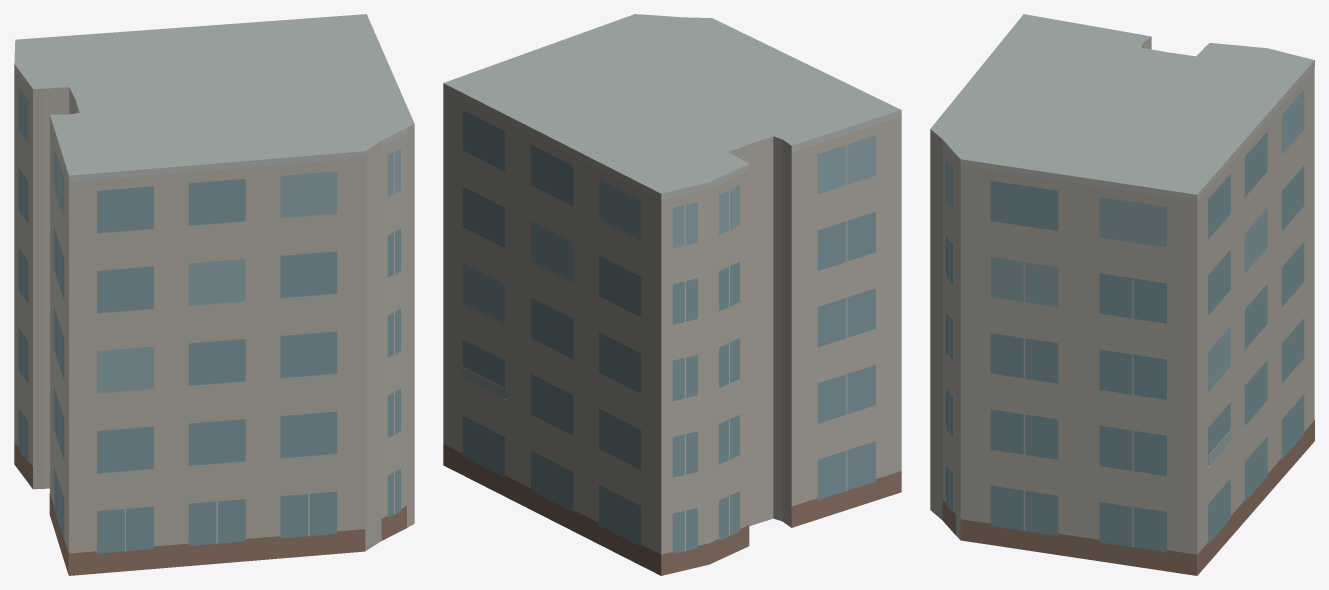
The model's file is survey-upis-32842089.glb.
The picture shows the model from 3 angles, left to right: view 1: azimuth 30°, elevation 25°; view 2: azimuth 150°, elevation 25°; view 3: azimuth 270°, elevation 25°; orthographic projection. The views are drawn at different scales.
Parts seen in each view (by area): view 1: survey-upis-32842089.tmp; view 2: survey-upis-32842089.tmp; view 3: survey-upis-32842089.tmp.
Part boxes in pixels (box(x1,y1,x2,y2)): survey-upis-32842089.tmp: box(14, 14, 414, 575); survey-upis-32842089.tmp: box(443, 14, 901, 575); survey-upis-32842089.tmp: box(930, 14, 1314, 575).
Bounding box in the file's own units: 14.66 × 14.4 × 13.17.
